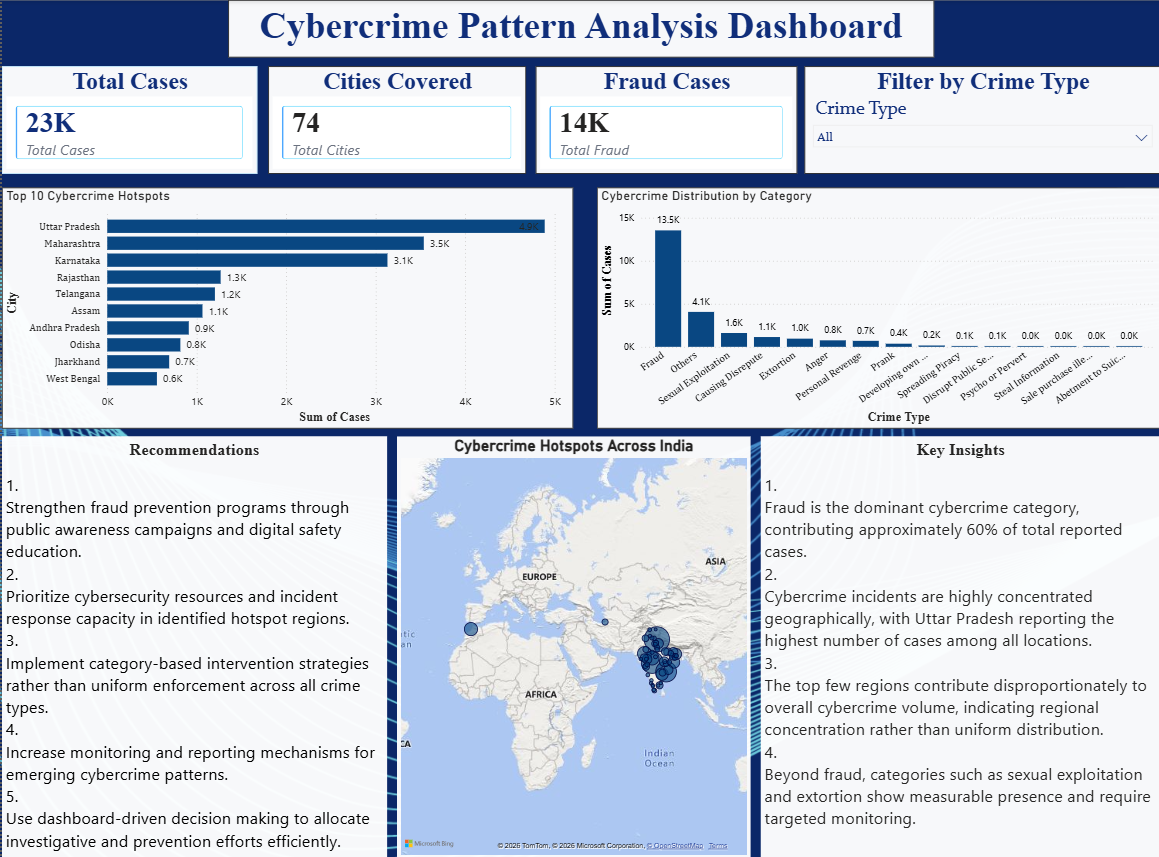

The dashboard page shown, as its layout file describes it:
{"tool":"powerbi","page":{"name":"Page 1","canvas":[1500,1111],"ordinal":0},"visuals":[{"type":"textbox","box":[292.8,0,914,74.4],"z":0},{"type":"cardVisual","title":"Total Cases","fields":{"Data":["Dataset_CyberCrime_Sean.Total Cases"]},"box":[0,85.7,330,139.1],"z":1000},{"type":"cardVisual","title":"Cities Covered","fields":{"Data":["Dataset_CyberCrime_Sean.Total Cities"]},"box":[344.6,85.7,333.2,139.1],"z":2000},{"type":"cardVisual","title":"Fraud Cases","fields":{"Data":["Dataset_CyberCrime_Sean.Total Fraud1"]},"box":[690.7,85.7,338.1,139.1],"z":3000},{"type":"clusteredBarChart","title":"Top 10 Cybercrime Hotspots","fields":{"Category":["Dataset_CyberCrime_Sean.City"],"Y":["Sum(Dataset_CyberCrime_Sean.Cases)"]},"box":[0,242.6,739.3,312.2],"z":4000},{"type":"clusteredColumnChart","title":"Cybercrime Distribution by Category","fields":{"Category":["Dataset_CyberCrime_Sean.Crime Type"],"Y":["Sum(Dataset_CyberCrime_Sean.Cases)"]},"box":[770,242.6,729.6,312.2],"z":5000},{"type":"slicer","title":"Filter by Crime Type","fields":{"Values":["Dataset_CyberCrime_Sean.Crime Type"]},"box":[1038.5,85.7,461,139.1],"z":6000},{"type":"map","title":"Cybercrime Hotspots Across India","fields":{"Category":["Dataset_CyberCrime_Sean.City"],"Size":["Sum(Dataset_CyberCrime_Sean.Cases)"]},"box":[511.2,564.6,457.8,546.8],"z":7000},{"type":"textbox","box":[981.9,564.6,517.6,546.8],"z":8000},{"type":"textbox","box":[0,564.6,498.2,546.8],"z":9000}]}

Visuals, with their boxes in screenshot pixels (x1, y1, x2, y2), scaled from the page's 1500x1111 canvas onto the 1159x857 screenshot:
textbox: [x1=226, y1=0, x2=932, y2=57]
"Total Cases" cardVisual: [x1=0, y1=66, x2=255, y2=173]
"Cities Covered" cardVisual: [x1=266, y1=66, x2=524, y2=173]
"Fraud Cases" cardVisual: [x1=534, y1=66, x2=795, y2=173]
"Top 10 Cybercrime Hotspots" clusteredBarChart: [x1=0, y1=187, x2=571, y2=428]
"Cybercrime Distribution by Category" clusteredColumnChart: [x1=595, y1=187, x2=1158, y2=428]
"Filter by Crime Type" slicer: [x1=802, y1=66, x2=1158, y2=173]
"Cybercrime Hotspots Across India" map: [x1=395, y1=436, x2=749, y2=856]
textbox: [x1=759, y1=436, x2=1158, y2=856]
textbox: [x1=0, y1=436, x2=385, y2=856]
